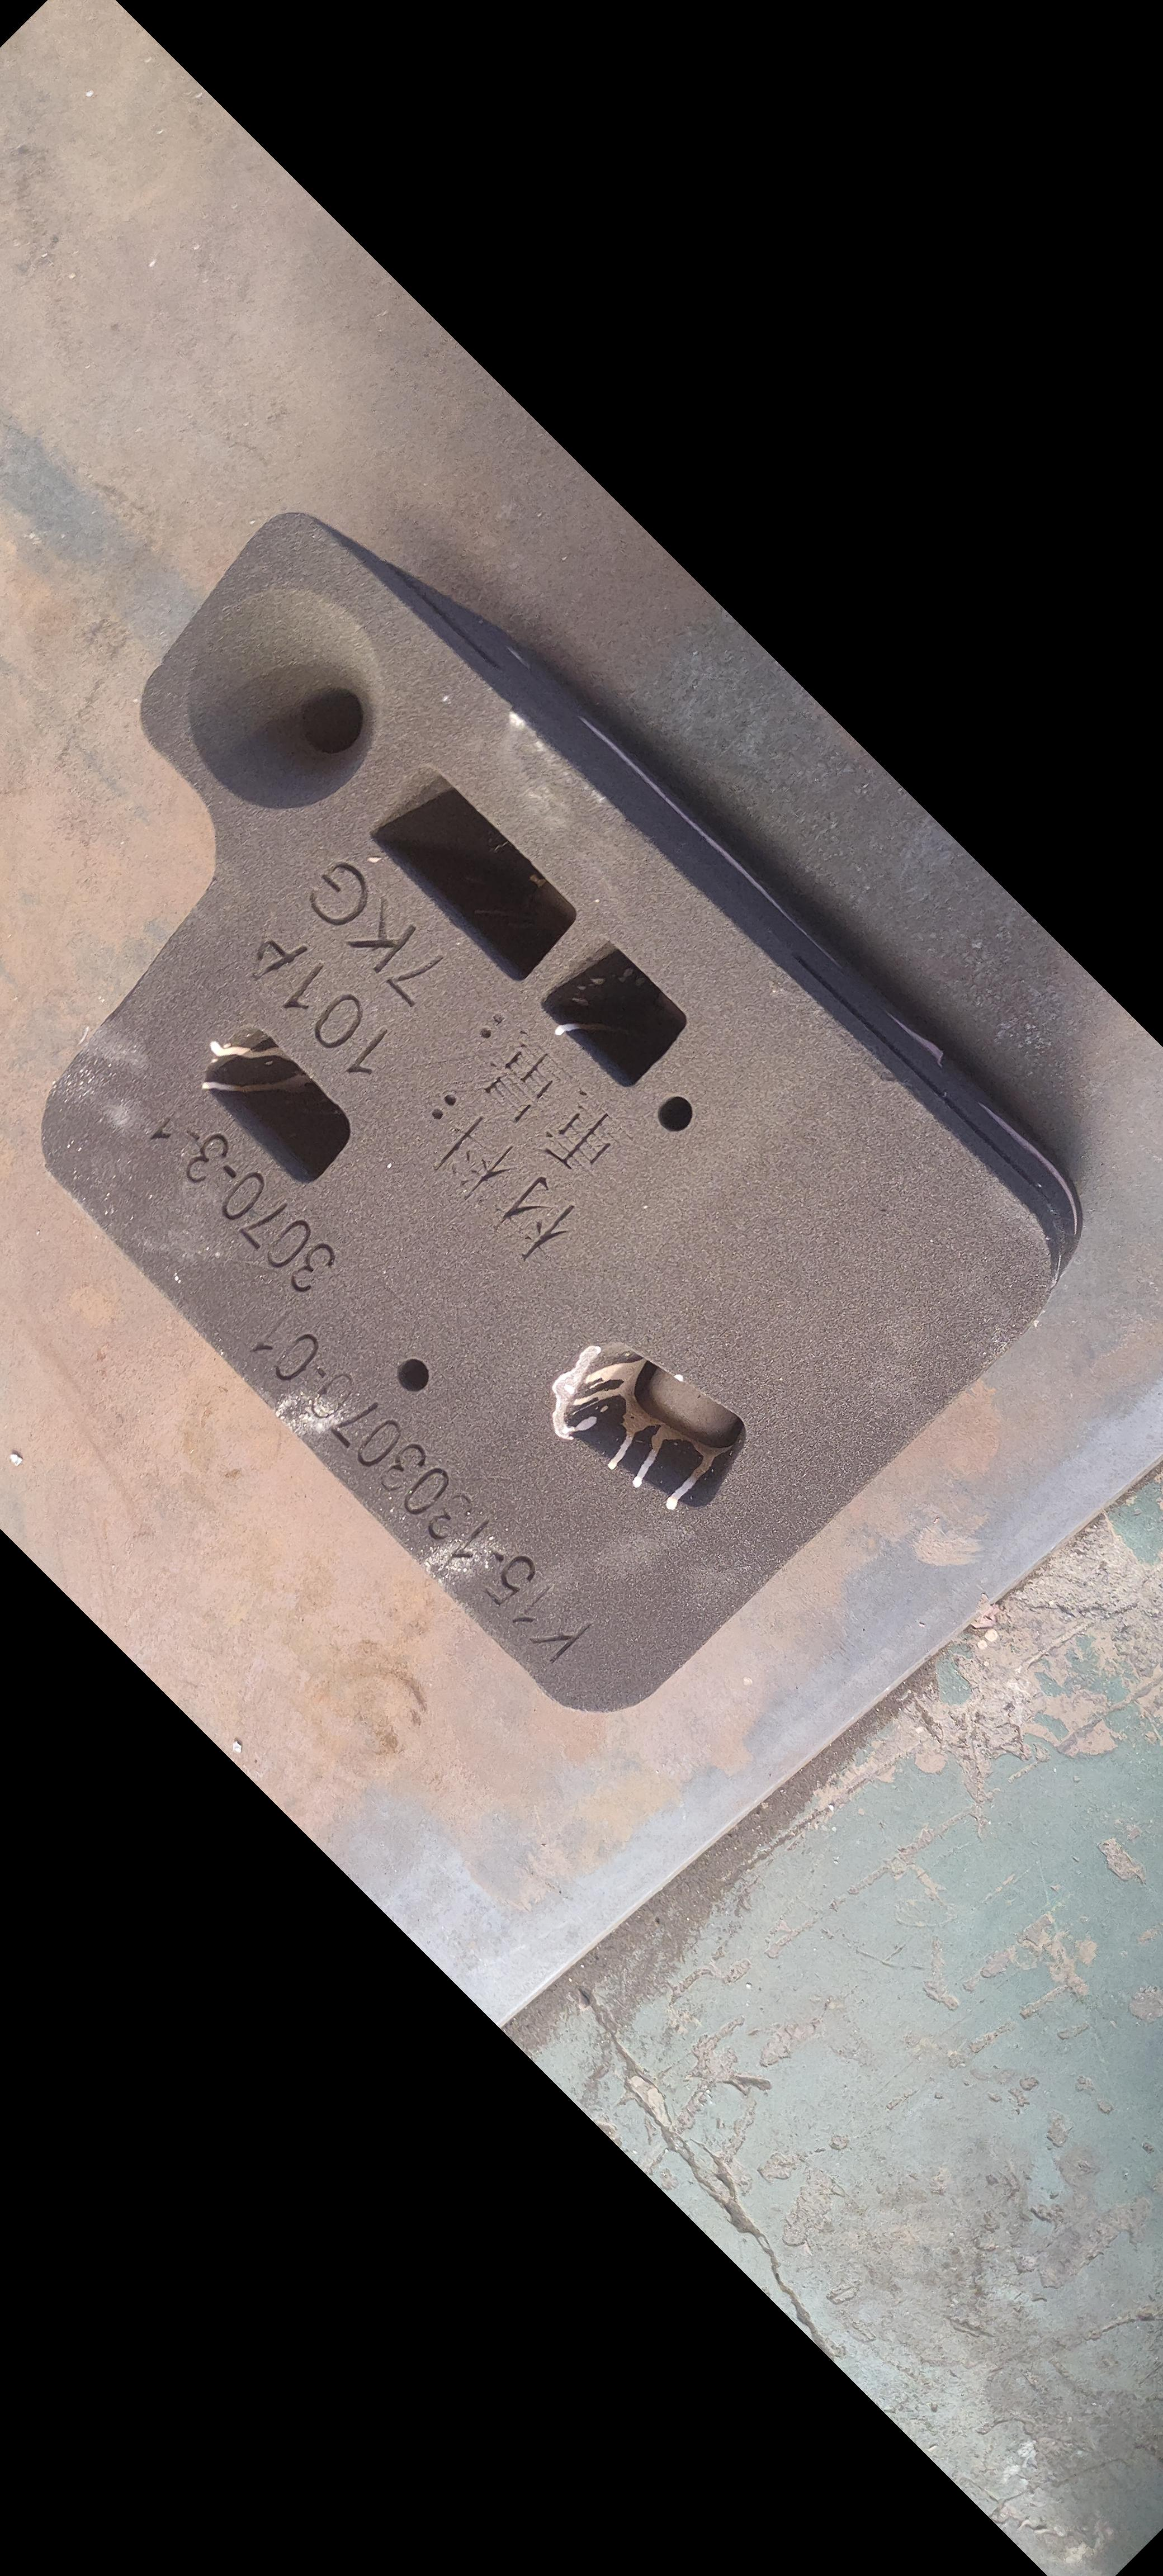pouring hole: (186, 590, 379, 808)
